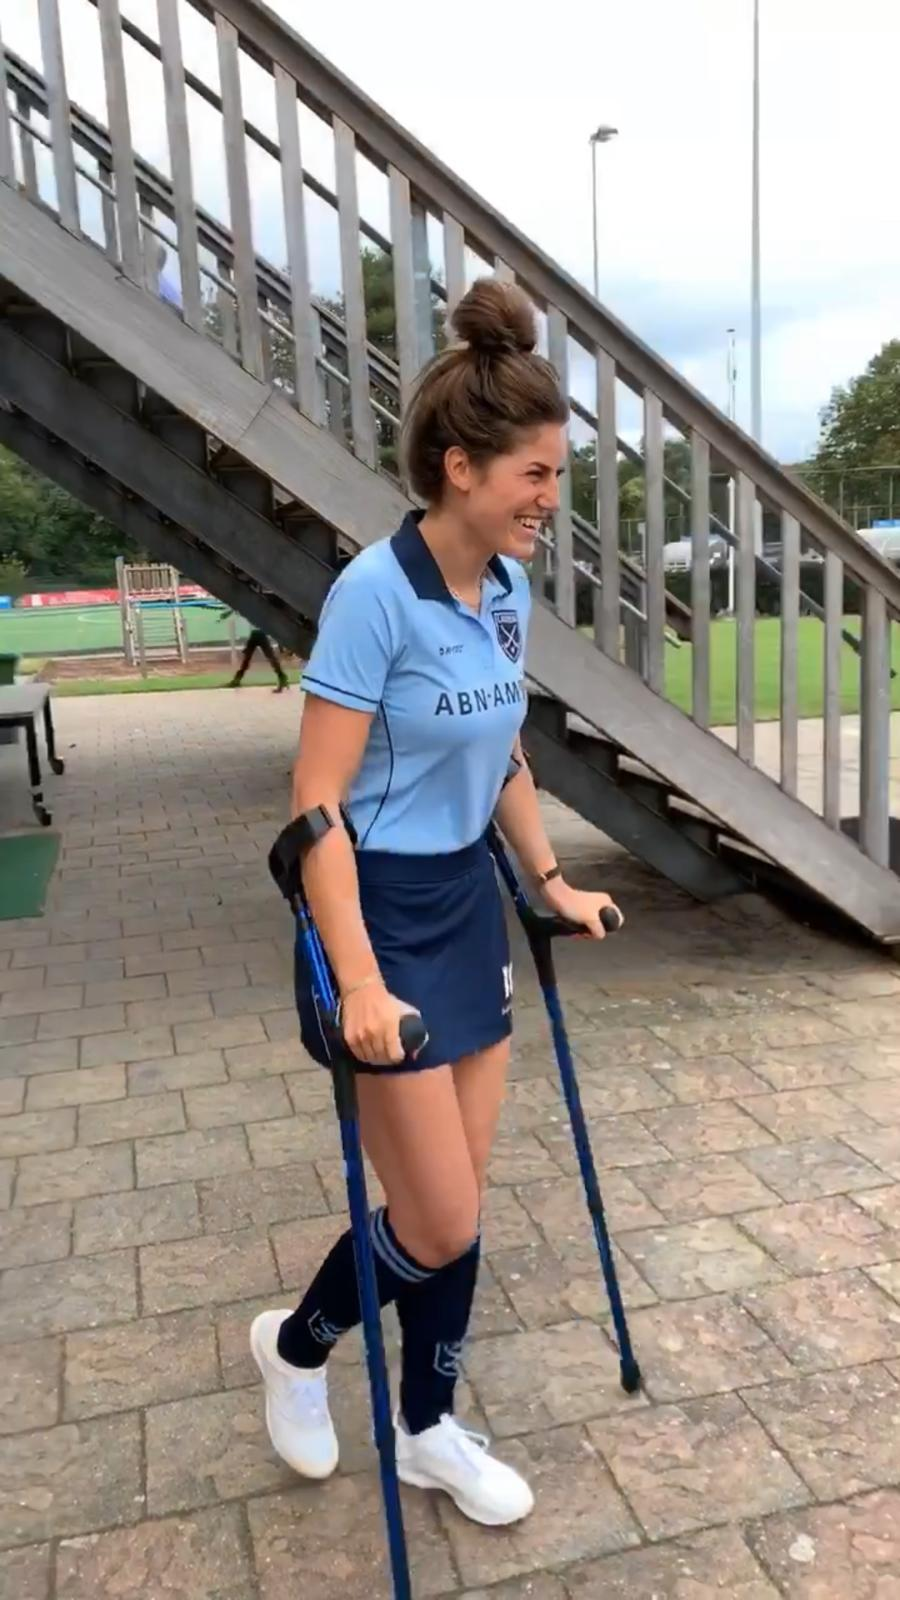crutches: (251, 278, 644, 1600)
